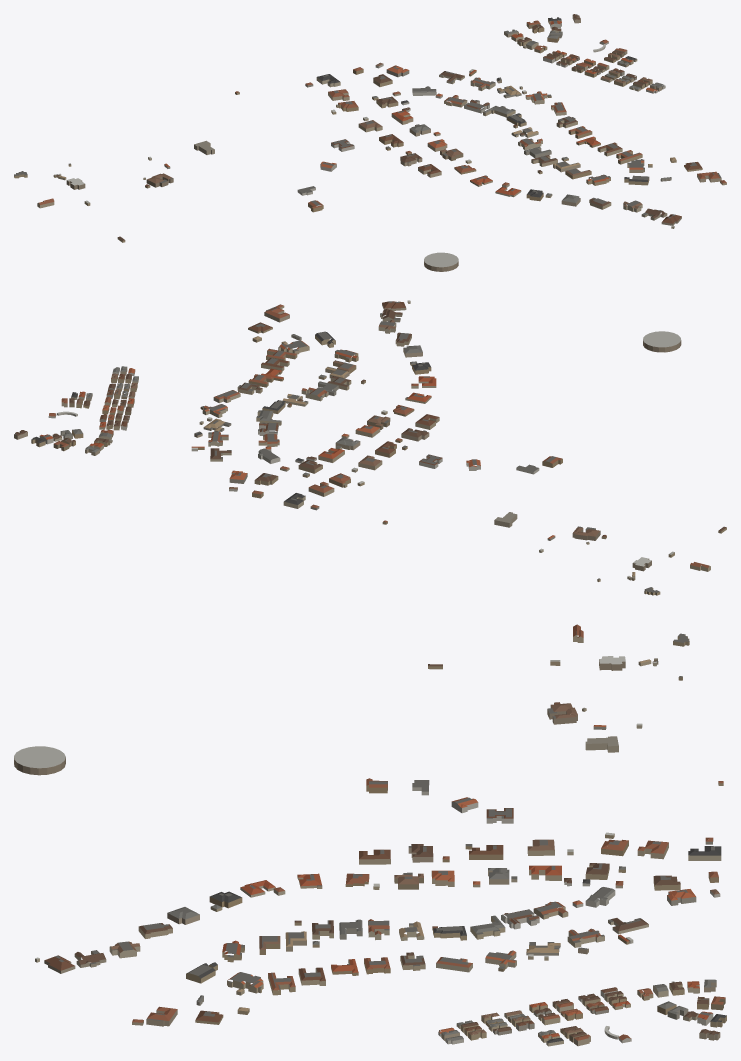
3 renders of one model, top to bottom at view 1: azimuth 30°, elevation 25°; view 2: azimuth 150°, elevation 25°; view 3: azimuth 270°, elevation 25°, orthographic. The views are drawn at different scales.
Visible parts, largest first — view 1: buildings_r4_c1_lod1; view 2: buildings_r4_c1_lod1; view 3: buildings_r4_c1_lod1.
Boxes of the visible parts, box(x1,y1,x2,y2) form: buildings_r4_c1_lod1: box(14, 14, 726, 271); buildings_r4_c1_lod1: box(14, 300, 726, 595); buildings_r4_c1_lod1: box(14, 624, 726, 1046).
Bounding box in the file's own units: 1125 × 58.21 × 789.
